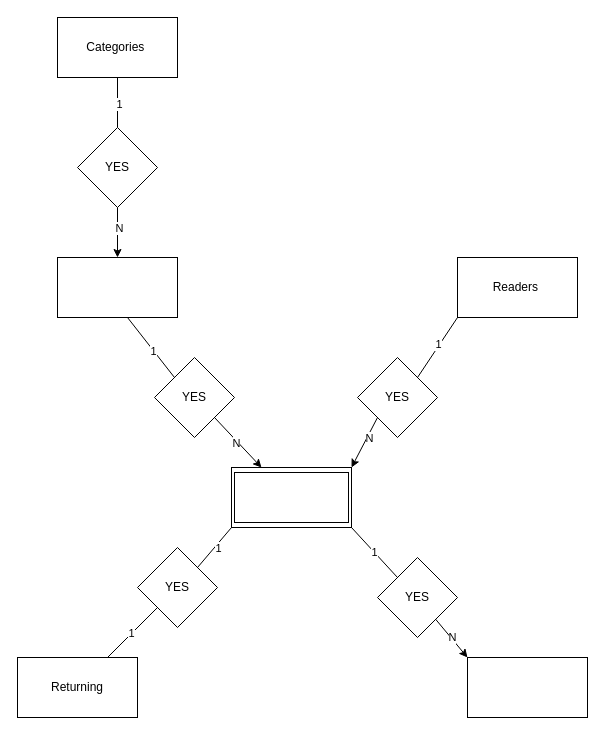
Some shapes in this 605 by 735 pixel diagram are drawn without their labels. Each missing label, with the centre of its shape:
"Books" goes at (117,287).
"Borrowing" goes at (291,497).
"Fines" goes at (527,687).
